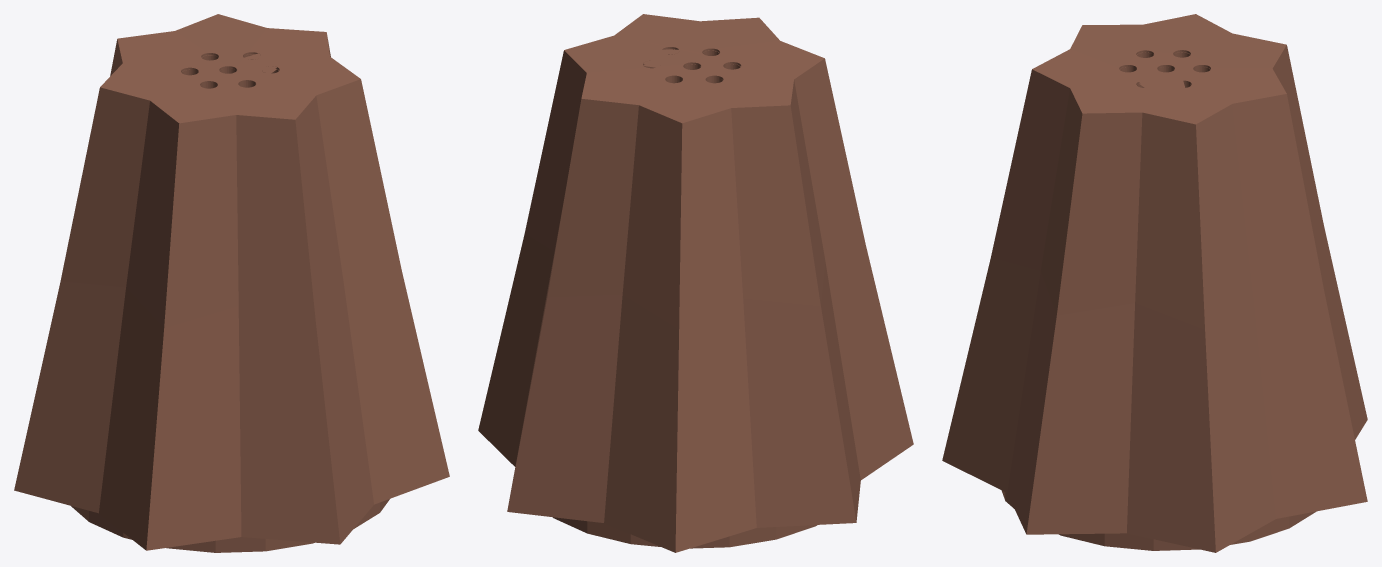
File: Pepper shaker.fbx
The picture shows the model from 3 angles, left to right: view 1: azimuth 30°, elevation 25°; view 2: azimuth 150°, elevation 25°; view 3: azimuth 270°, elevation 25°; orthographic projection.
Visible parts, largest first — view 1: outside; view 2: outside; view 3: outside.
Boxes of the visible parts, x1,y1,x2,y2 form: outside: (14, 14, 449, 552); outside: (478, 14, 913, 552); outside: (942, 14, 1367, 552).
Size of the model in its own units: 0.1999 by 0.2079 by 0.1949.
